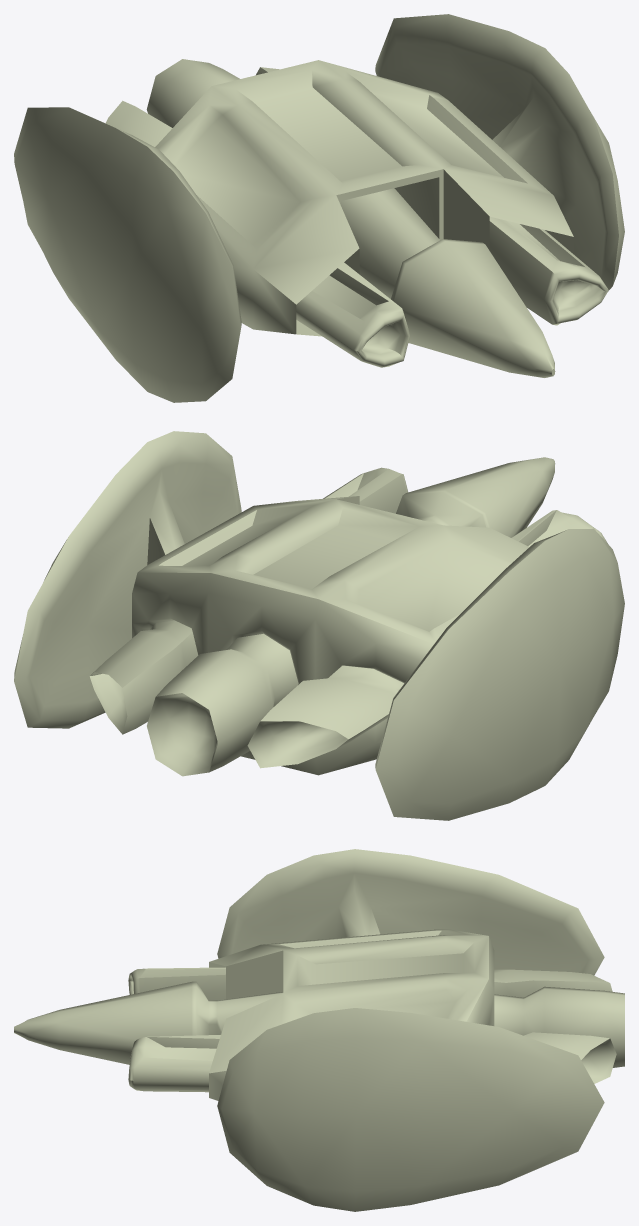
File: cruiser.obj
3 renders of one model, top to bottom at view 1: azimuth 30°, elevation 25°; view 2: azimuth 150°, elevation 25°; view 3: azimuth 270°, elevation 25°, orthographic. The views are drawn at different scales.
Visible parts, largest first — view 1: Cube1; view 2: Cube1; view 3: Cube1.
Boxes of the visible parts, x1=… form: Cube1: x1=14, y1=14, x2=624, y2=402; Cube1: x1=14, y1=431, x2=624, y2=820; Cube1: x1=14, y1=849, x2=624, y2=1211.
Bounding box in the file's own units: 0.5802 × 0.3194 × 0.8667.
